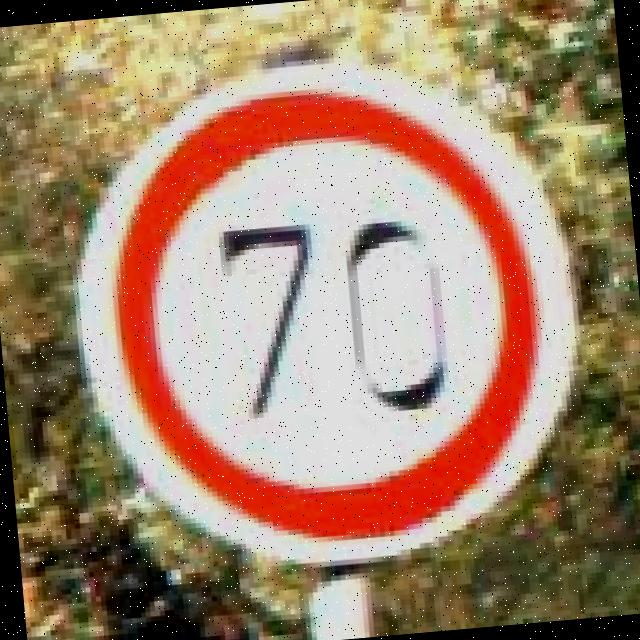Ograniczenie predkosci do 70: (31, 32, 609, 608)
